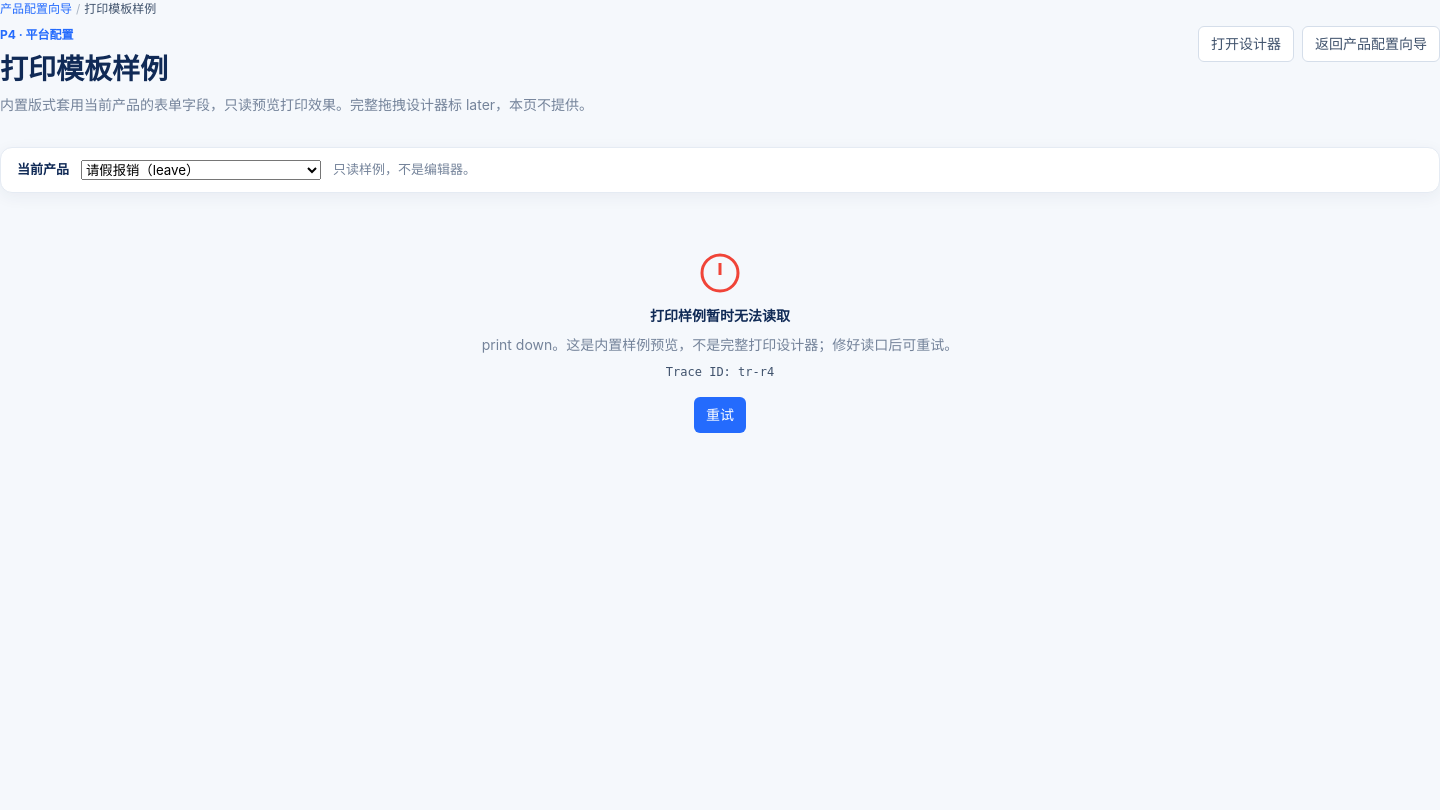
Test: product sample print (PC10 / CF-R1) › uses a print-specific error shell with later honesty when the sample fails
This screenshot has width=1440, height=810.
Expected: the message with test id "sample-read-error" shows "打印样例暂时无法读取", 650,307 -> 790,324
Expected: the message with test id "sample-read-error" shows "print down", 482,336 -> 958,353
Click the button "重试" at point(720, 415), box 694,397 -> 746,433
(page scrolled)
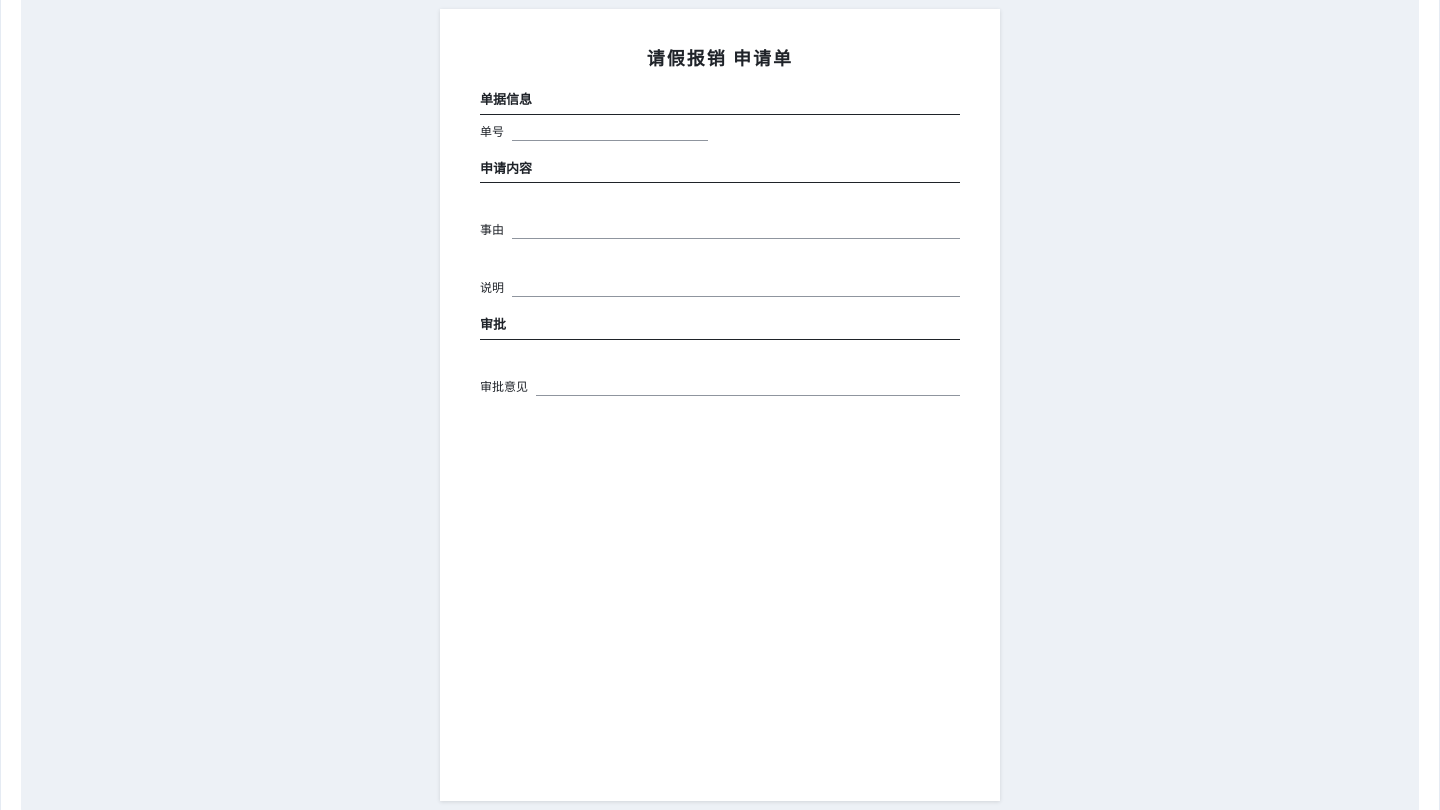
Result: the element with test id "sample-print-paper" is shown at 440,9 -> 1000,801
